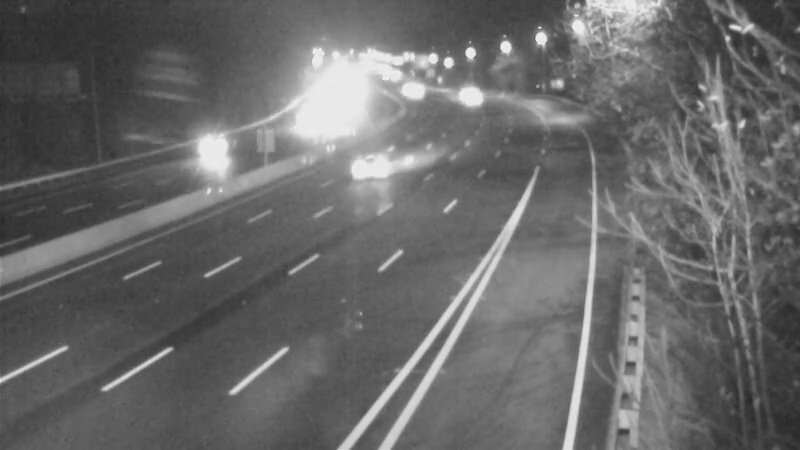vehicle: (331, 124, 411, 204), (169, 116, 249, 196), (384, 61, 434, 111), (392, 66, 442, 116), (435, 64, 485, 114), (447, 74, 497, 124)
